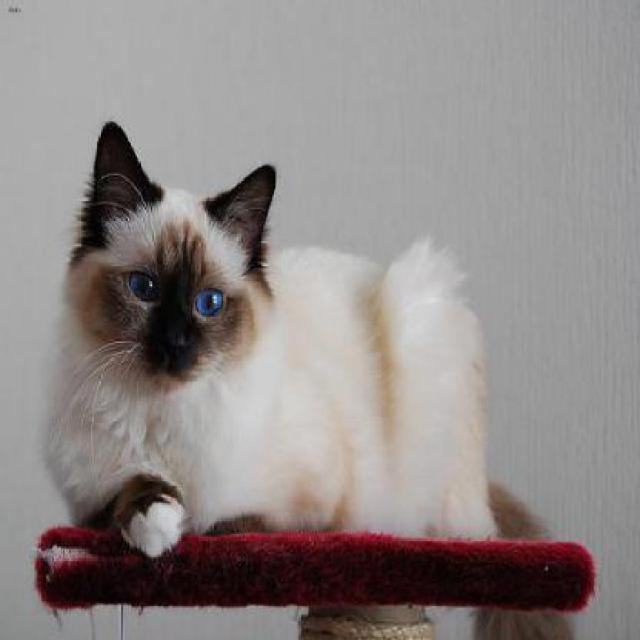cat: (43, 119, 494, 536)
